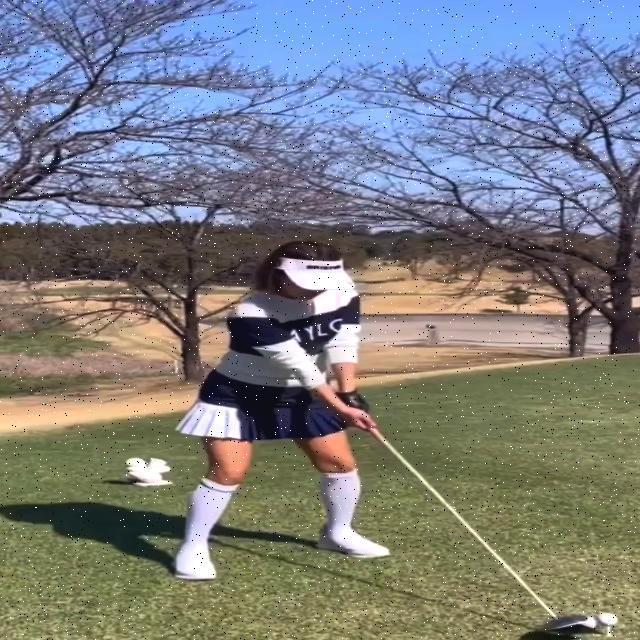ClubHead: (541, 614, 609, 635)
GolfBall: (599, 613, 619, 625)
